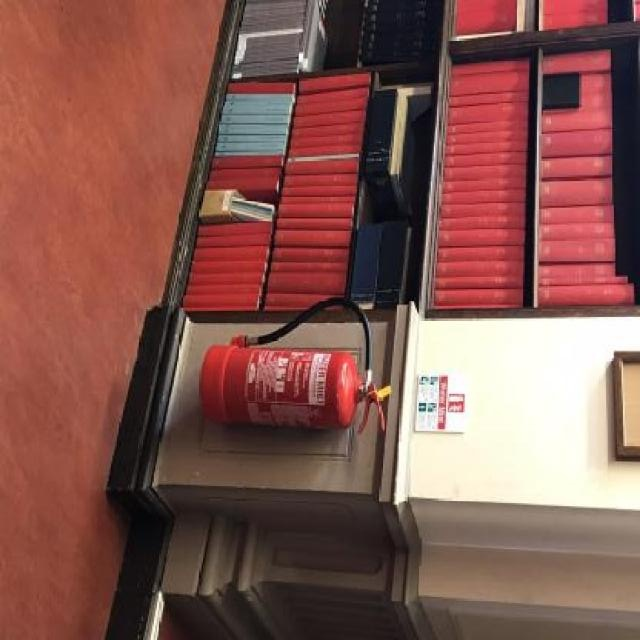fire extinguisher: (201, 297, 384, 437)
